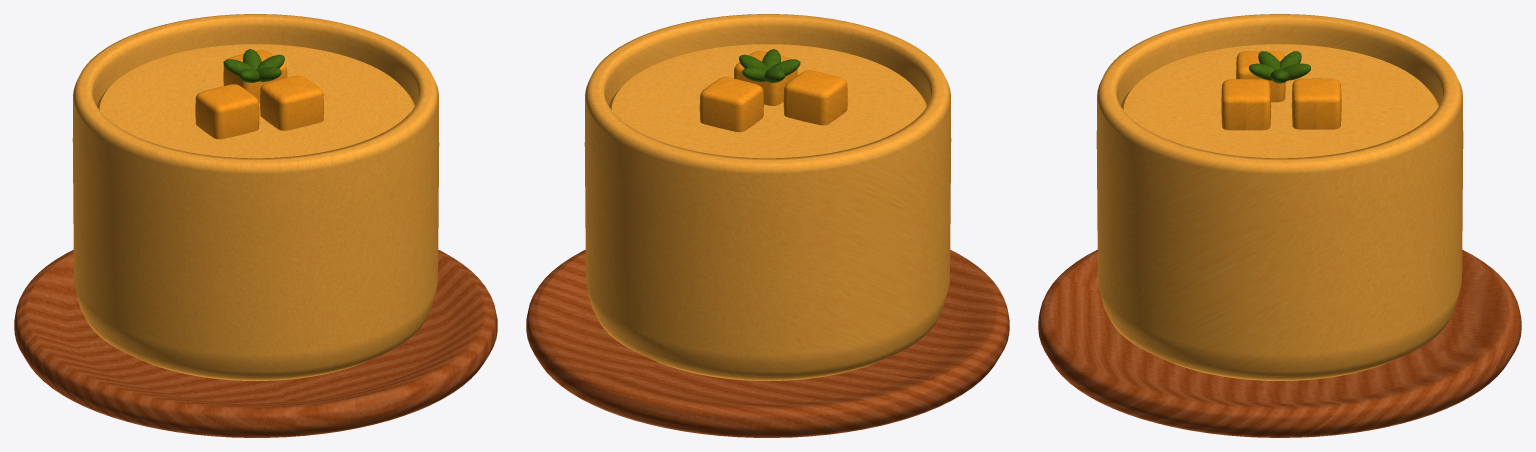
Rendered from 10-pumpkin-custard.glb.
3 views of the same model, side by side, from view 1: azimuth 30°, elevation 25°; view 2: azimuth 150°, elevation 25°; view 3: azimuth 270°, elevation 25° (orthographic).
Visible parts, largest first — view 1: Silky golden custard, Honey wood grain, Crispy tempura, Fresh leaf; view 2: Silky golden custard, Honey wood grain, Crispy tempura, Fresh leaf; view 3: Silky golden custard, Honey wood grain, Crispy tempura, Fresh leaf.
Part boxes in pixels (left/top/right/bottom): Silky golden custard: left=72, top=14, right=439, bottom=380; Honey wood grain: left=14, top=250, right=497, bottom=437; Crispy tempura: left=195, top=50, right=323, bottom=139; Fresh leaf: left=223, top=49, right=284, bottom=82; Silky golden custard: left=584, top=14, right=951, bottom=380; Honey wood grain: left=526, top=250, right=1009, bottom=437; Crispy tempura: left=699, top=51, right=847, bottom=132; Fresh leaf: left=739, top=49, right=800, bottom=82; Silky golden custard: left=1096, top=14, right=1463, bottom=380; Honey wood grain: left=1038, top=249, right=1521, bottom=437; Crispy tempura: left=1221, top=51, right=1341, bottom=130; Fresh leaf: left=1249, top=51, right=1310, bottom=83.
Bounding box in the file's own units: 0.0329 × 0.0214 × 0.0329.
4 materials, 4 textured.
